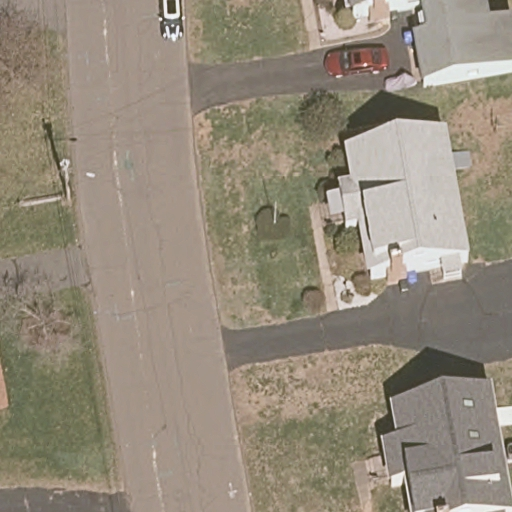DT: (58, 157, 75, 206)
